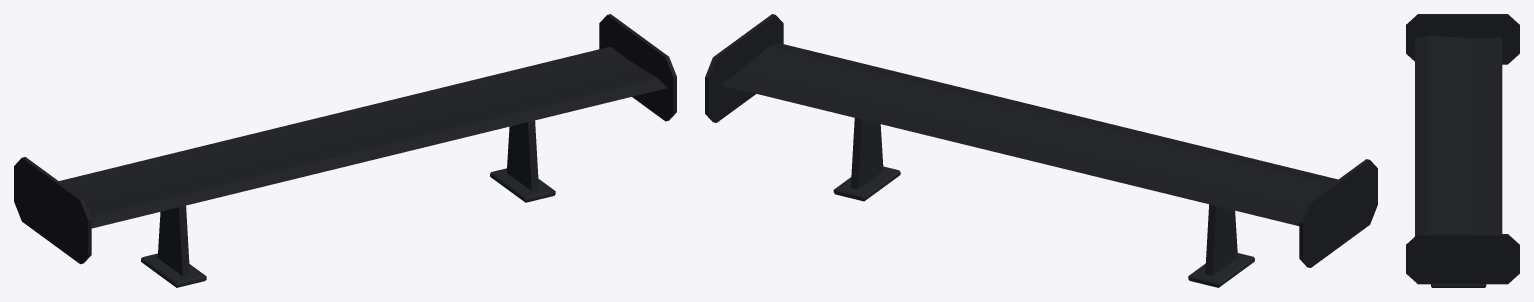
Rendered from apex_v8.glb.
The picture shows the model from 3 angles, left to right: view 1: azimuth 30°, elevation 25°; view 2: azimuth 150°, elevation 25°; view 3: azimuth 270°, elevation 25°; orthographic projection. The views are drawn at different scales.
Parts seen in each view (by area): view 1: wing_element, model; view 2: wing_element, model; view 3: wing_element, model.
Boxes of the visible parts, left/top/right/bottom form: wing_element: left=14, top=14, right=676, bottom=264; model: left=141, top=120, right=555, bottom=287; wing_element: left=705, top=14, right=1377, bottom=267; model: left=833, top=118, right=1254, bottom=287; wing_element: left=1406, top=14, right=1519, bottom=284; model: left=1431, top=284, right=1486, bottom=287.
Bounding box in the file's own units: 1.32 × 0.2564 × 0.286.
Materials: 2 (1 with a texture image).
